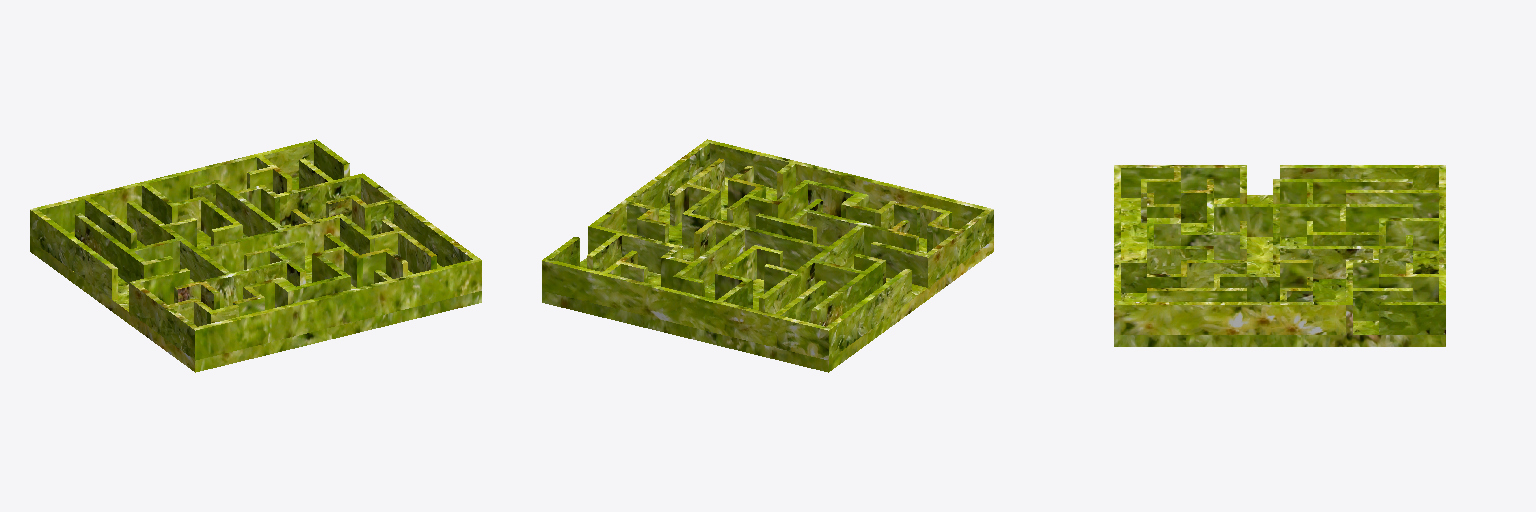
3 views of the same model, side by side, from view 1: azimuth 30°, elevation 25°; view 2: azimuth 150°, elevation 25°; view 3: azimuth 270°, elevation 25° (orthographic).
Parts seen in each view (by area): view 1: Level2; view 2: Level2; view 3: Level2.
Boxes of the visible parts, x1,y1,x2,y2 form: Level2: [30, 139, 481, 372]; Level2: [542, 139, 993, 372]; Level2: [1114, 165, 1445, 346].
Size of the model in its own units: 107 by 15.02 by 107.
Materials: 1 (1 with a texture image).